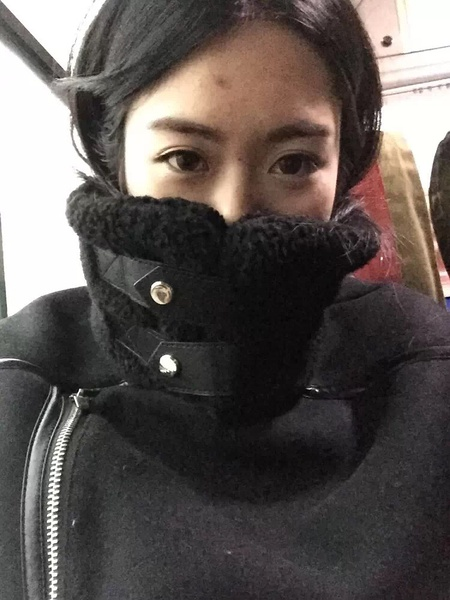face_mask: (125, 31, 342, 310)
